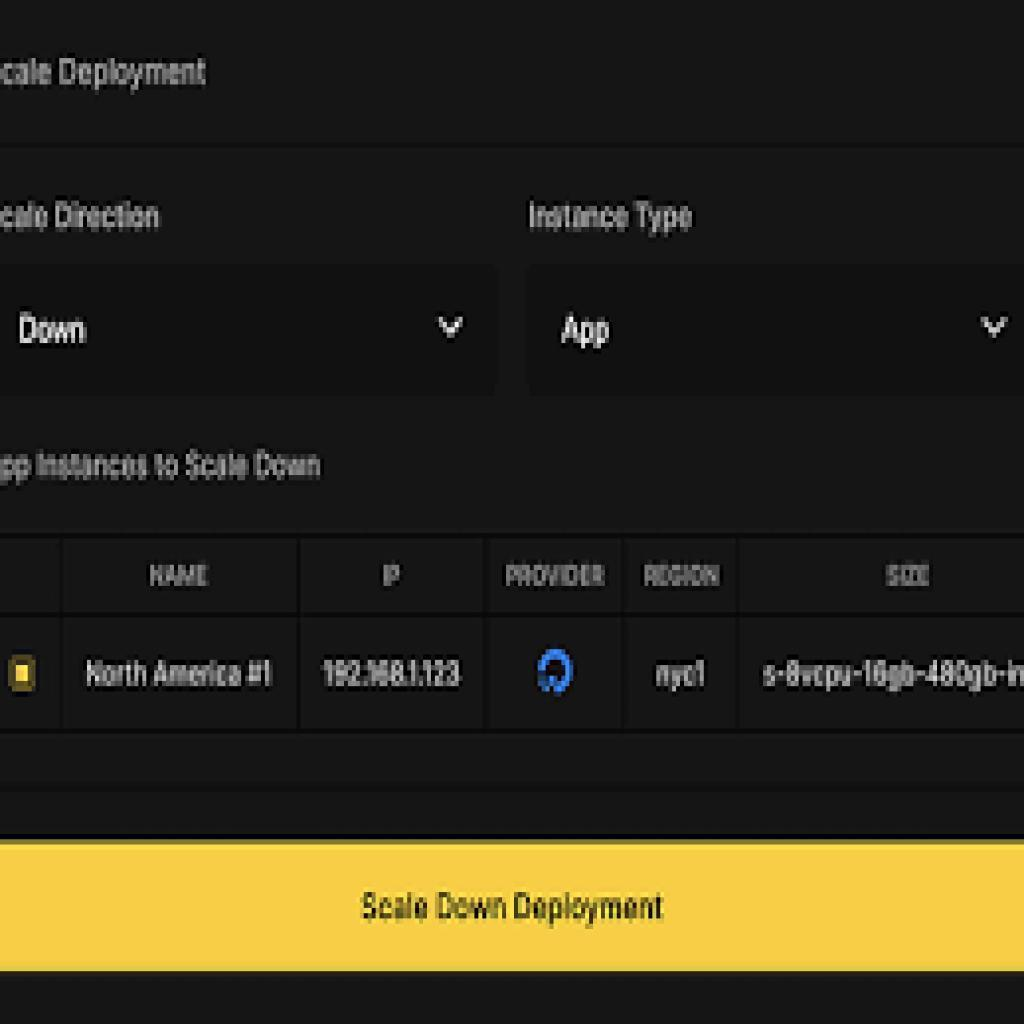button: (1, 844, 1024, 971)
dropdown: (529, 266, 1024, 397), (1, 267, 502, 396)
table: (2, 535, 1024, 738)
